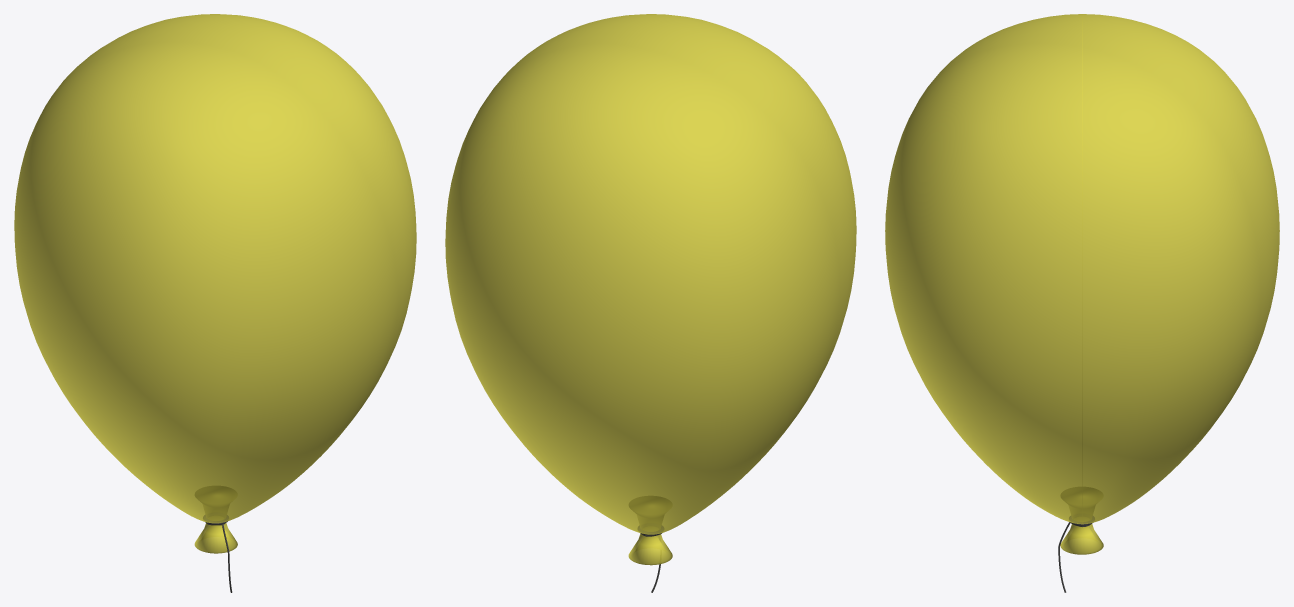
The model's file is ballon_jaune.glb.
3 renders of one model, left to right at view 1: azimuth 30°, elevation 25°; view 2: azimuth 150°, elevation 25°; view 3: azimuth 270°, elevation 25°, orthographic. The views are drawn at different scales.
Parts seen in each view (by area): view 1: Cube.003, Cylinder.006; view 2: Cube.003, Cylinder.006; view 3: Cube.003, Cylinder.006.
Part boxes in pixels (x1,y1,x2,y2): Cube.003: (14, 14, 416, 523); Cylinder.006: (194, 486, 237, 553); Cube.003: (445, 14, 856, 534); Cylinder.006: (628, 496, 672, 565); Cube.003: (885, 14, 1279, 524); Cylinder.006: (1060, 487, 1103, 554).
Size of the model in its own units: 71.29 by 110 by 71.29.
